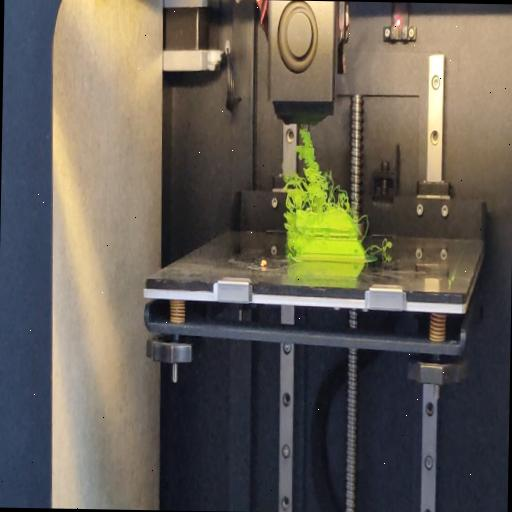spaghetti: (286, 128, 351, 214), (367, 237, 396, 256), (284, 216, 294, 258), (358, 208, 369, 242)
